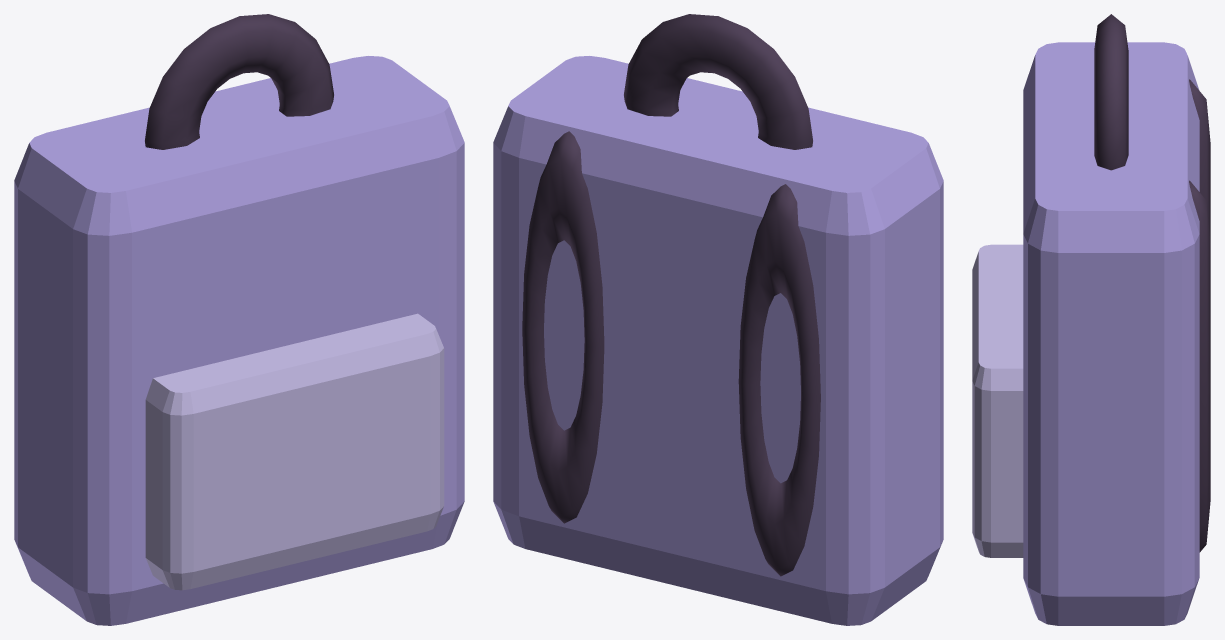
File: school_backpack.glb
3 views of the same model, side by side, from view 1: azimuth 30°, elevation 25°; view 2: azimuth 150°, elevation 25°; view 3: azimuth 270°, elevation 25° (orthographic). The views are drawn at different scales.
Parts seen in each view (by area): view 1: model; view 2: model; view 3: model.
Boxes of the visible parts, box(x1,y1,x2,y2) form: model: box(14, 14, 464, 625); model: box(493, 14, 943, 625); model: box(972, 14, 1210, 625).
Size of the model in its own units: 0.45 by 0.6 by 0.25.
